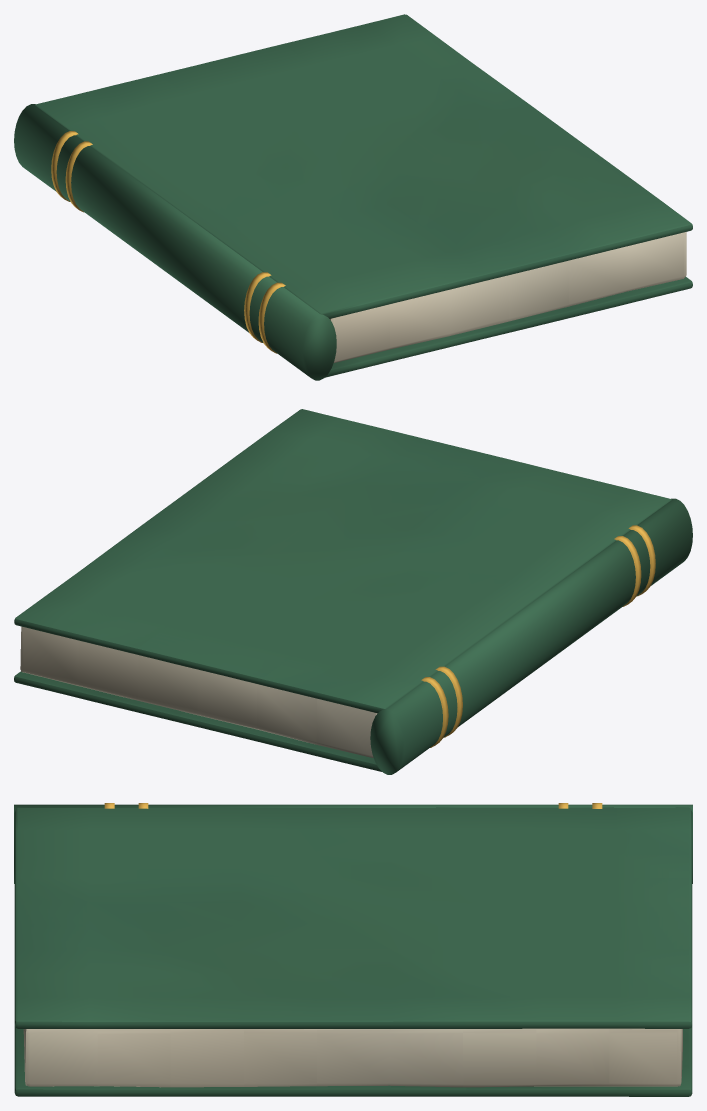
The model's file is frost_book_green.glb.
3 views of the same model, one above another, from view 1: azimuth 30°, elevation 25°; view 2: azimuth 150°, elevation 25°; view 3: azimuth 270°, elevation 25° (orthographic). The views are drawn at different scales.
Parts seen in each view (by area): view 1: frost_book_green; view 2: frost_book_green; view 3: frost_book_green.
Boxes of the visible parts, box(x1,y1,x2,y2) form: frost_book_green: box(14, 14, 692, 380); frost_book_green: box(14, 409, 692, 774); frost_book_green: box(14, 803, 692, 1096).
Bounding box in the file's own units: 18.95 × 3.12 × 24.05.
